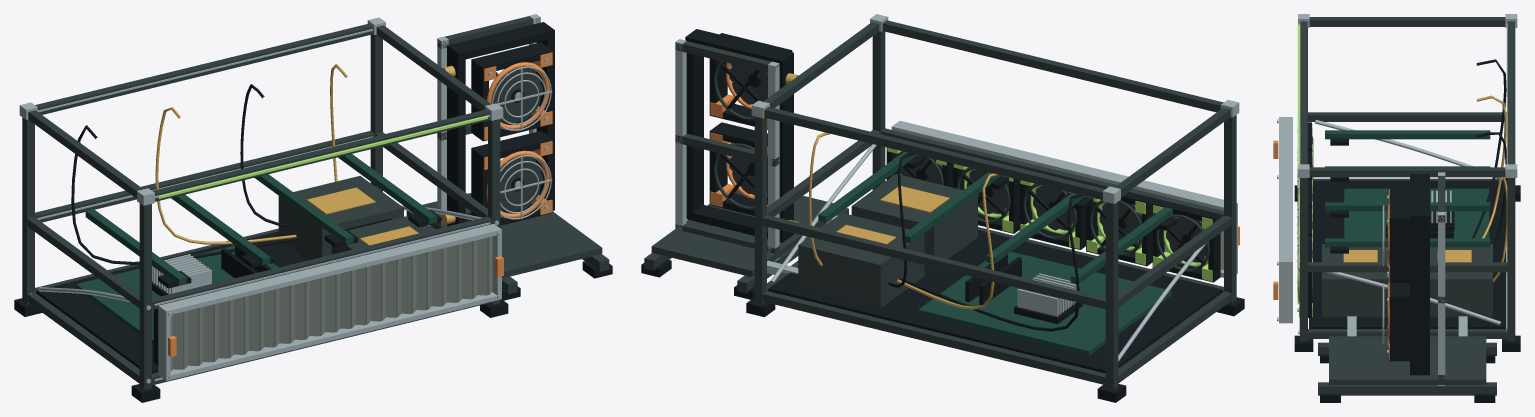
Rendered from rig-gameplay-pleated-air.glb.
The picture shows the model from 3 angles, left to right: view 1: azimuth 30°, elevation 25°; view 2: azimuth 150°, elevation 25°; view 3: azimuth 270°, elevation 25°; orthographic projection. The views are drawn at different scales.
Parts seen in each view (by area): view 1: Anodized graphite (×4), Filter fibres, Brushed aluminium (×5), Rubber and ABS (×4), Circuit board, Industrial orange (×2), Contacts, rig-gameplay-pleated-air, slot-cable-1, slot-cable-2, slot-cable-3; view 2: Anodized graphite (×7), Rubber and ABS (×8), Circuit board, Brushed aluminium (×3), Contacts, Lime accents (×2), slot-cable-1, slot-cable-2, Industrial orange; view 3: Anodized graphite (×2), Rubber and ABS (×6), Circuit board, Brushed aluminium (×3), Contacts, slot-cable-1, rig-gameplay-pleated-air, slot-cable-2, slot-cable-3, slot-cable-4.
Part boxes in pixels (bbox=[...]): Anodized graphite (×4): bbox=[22, 16, 609, 389]; Filter fibres: bbox=[170, 236, 492, 371]; Brushed aluminium (×5): bbox=[19, 14, 552, 383]; Rubber and ABS (×4): bbox=[14, 22, 554, 402]; Circuit board: bbox=[76, 154, 437, 344]; Industrial orange (×2): bbox=[484, 52, 552, 218]; Contacts: bbox=[307, 187, 418, 245]; rig-gameplay-pleated-air: bbox=[158, 115, 488, 198]; slot-cable-1: bbox=[71, 125, 298, 264]; slot-cable-2: bbox=[155, 107, 296, 244]; slot-cable-3: bbox=[240, 84, 287, 227]; Anodized graphite (×7): bbox=[644, 20, 1236, 389]; Rubber and ABS (×8): bbox=[685, 29, 1244, 402]; Circuit board: bbox=[818, 151, 1172, 355]; Brushed aluminium (×3): bbox=[675, 14, 1239, 361]; Contacts: bbox=[836, 186, 949, 244]; Lime accents (×2): bbox=[1086, 196, 1212, 281]; slot-cable-1: bbox=[899, 194, 1082, 331]; slot-cable-2: bbox=[897, 173, 998, 309]; Industrial orange: bbox=[710, 132, 767, 207]; Anodized graphite (×2): bbox=[1300, 17, 1515, 395]; Rubber and ABS (×6): bbox=[1294, 138, 1520, 402]; Circuit board: bbox=[1325, 130, 1490, 247]; Brushed aluminium (×3): bbox=[1279, 14, 1517, 385]; Contacts: bbox=[1343, 250, 1471, 262]; slot-cable-1: bbox=[1472, 59, 1506, 238]; rig-gameplay-pleated-air: bbox=[1297, 24, 1300, 168]; slot-cable-2: bbox=[1476, 95, 1506, 238]; slot-cable-3: bbox=[1476, 132, 1507, 249]; slot-cable-4: bbox=[1493, 177, 1507, 282].
Bounding box in the file's own units: 8.02 × 3.32 × 4.01.
